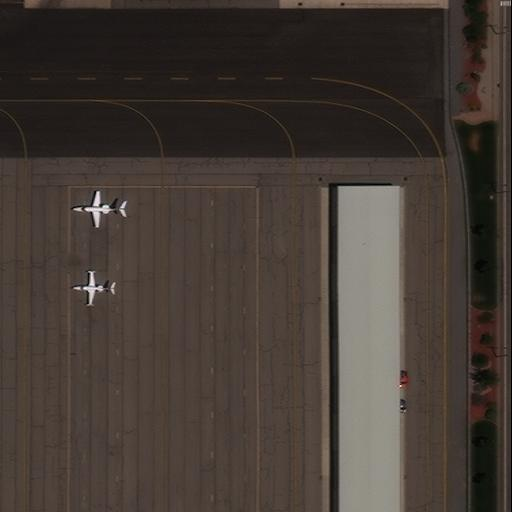Small Civil Transport: (70, 191, 127, 227), (70, 273, 116, 303)
